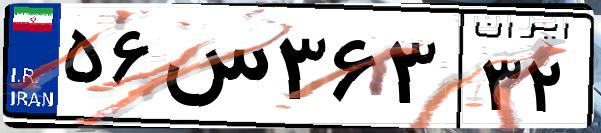2: (525, 38, 570, 115)
3: (270, 28, 330, 110), (385, 28, 445, 110), (475, 38, 525, 113)
5: (57, 26, 110, 100)
6: (330, 28, 385, 110), (110, 28, 158, 98)
س: (158, 20, 270, 120)
